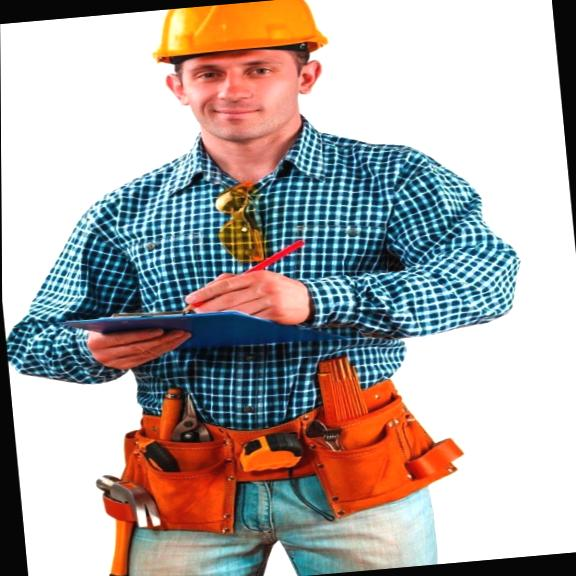no_safety_vest: (1, 112, 539, 440)
